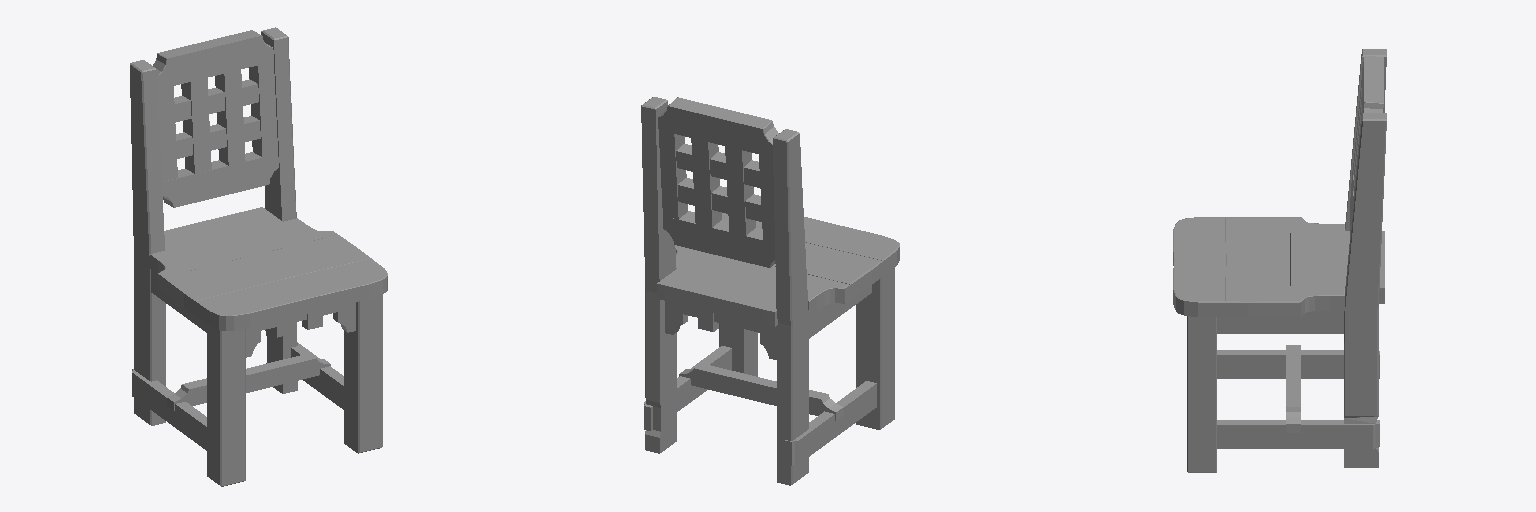
File: chair.obj
3 views of the same model, side by side, from view 1: azimuth 30°, elevation 25°; view 2: azimuth 150°, elevation 25°; view 3: azimuth 270°, elevation 25° (orthographic).
Parts seen in each view (by area): view 1: Cube.009_Cube.014; view 2: Cube.009_Cube.014; view 3: Cube.009_Cube.014.
Boxes of the visible parts, box(x1,y1,x2,y2) form: Cube.009_Cube.014: box(130, 27, 387, 486); Cube.009_Cube.014: box(641, 97, 899, 485); Cube.009_Cube.014: box(1173, 49, 1386, 472).
Size of the model in its own units: 0.4122 by 0.7923 by 0.4319.